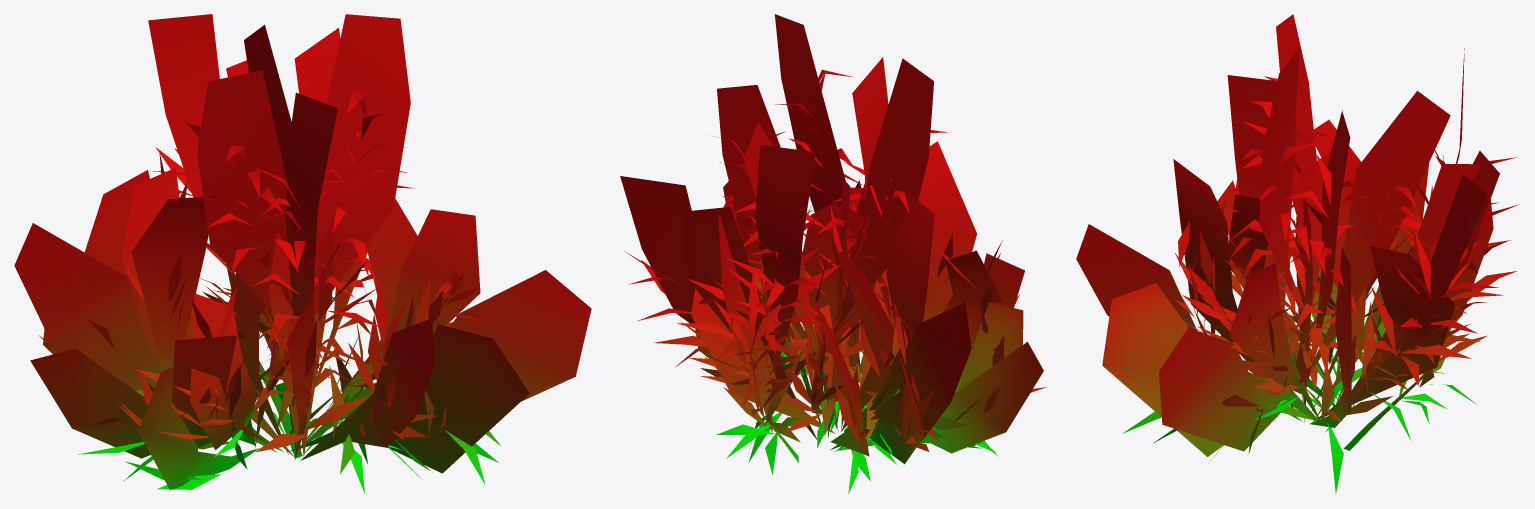
The model's file is Var3_LOD6.fbx.
3 views of the same model, side by side, from view 1: azimuth 30°, elevation 25°; view 2: azimuth 150°, elevation 25°; view 3: azimuth 270°, elevation 25° (orthographic). The views are drawn at different scales.
Parts seen in each view (by area): view 1: _37ws_Var3_LOD6; view 2: _37ws_Var3_LOD6; view 3: _37ws_Var3_LOD6.
Part boxes in pixels (box(x1,y1,x2,y2)): _37ws_Var3_LOD6: box(14, 14, 591, 493); _37ws_Var3_LOD6: box(620, 14, 1046, 493); _37ws_Var3_LOD6: box(1076, 14, 1518, 494).
Size of the model in its own units: 33.6 by 33.37 by 31.43.
